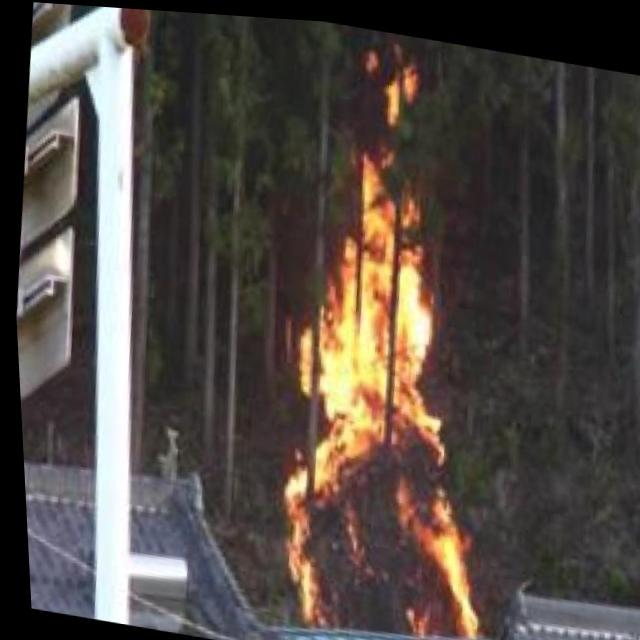fire: (242, 140, 524, 640)
